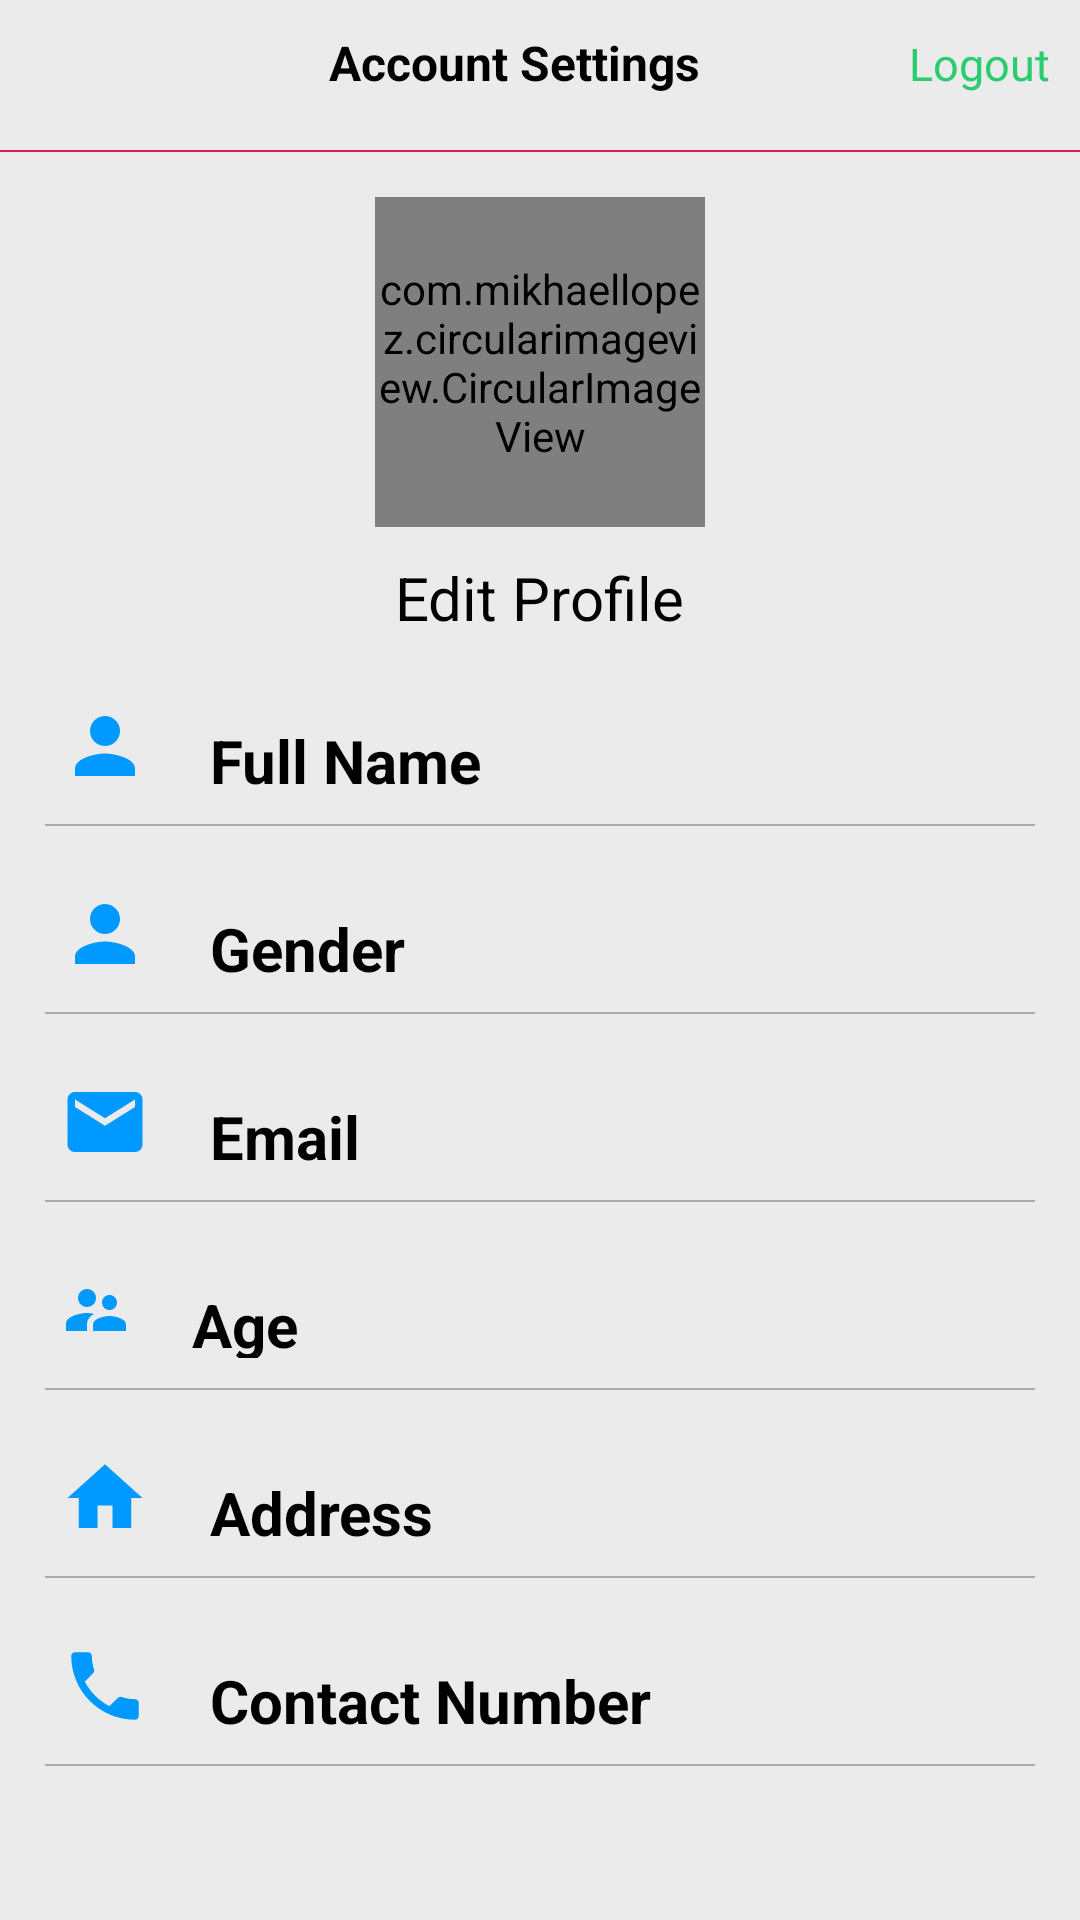

Named icons in this screenshot (1080 × 1920) and their centers, (x=x, y=y):
peson: (x=105, y=746), (x=105, y=934)
